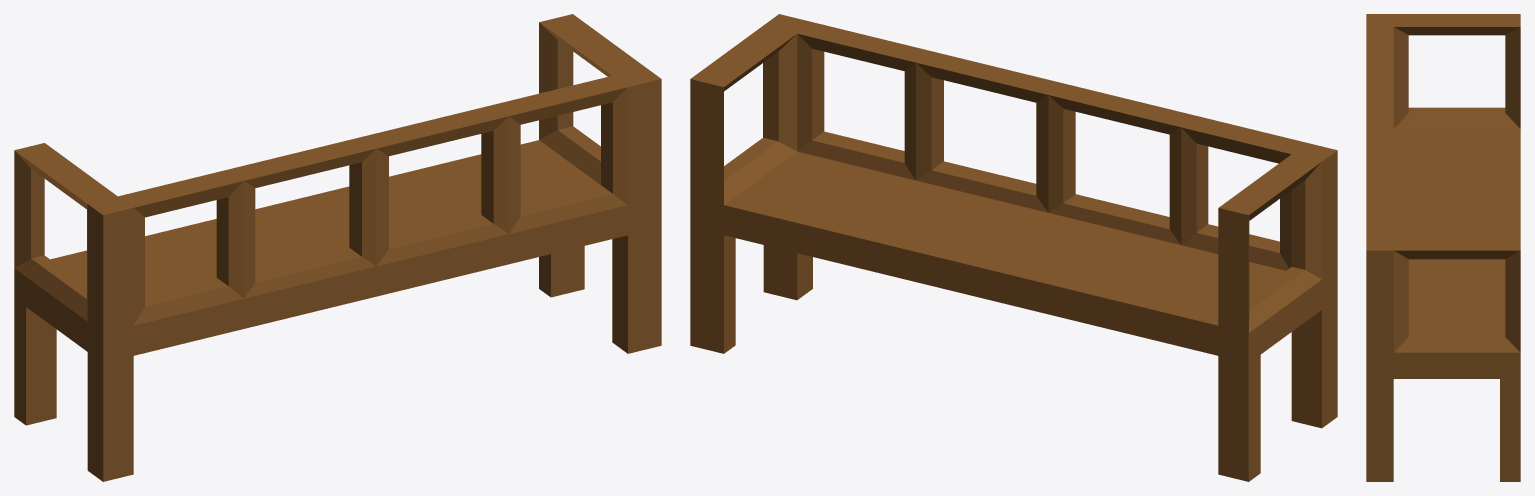
File: Banquito.fbx
The picture shows the model from 3 angles, left to right: view 1: azimuth 30°, elevation 25°; view 2: azimuth 150°, elevation 25°; view 3: azimuth 270°, elevation 25°; orthographic projection. The views are drawn at different scales.
Parts seen in each view (by area): view 1: Banquito; view 2: Banquito; view 3: Banquito.
Part boxes in pixels (<box>): Banquito: <box>14,14,661,481</box>; Banquito: <box>690,14,1337,481</box>; Banquito: <box>1366,14,1520,481</box>.
Size of the model in its own units: 3.63 by 1.66 by 1.
